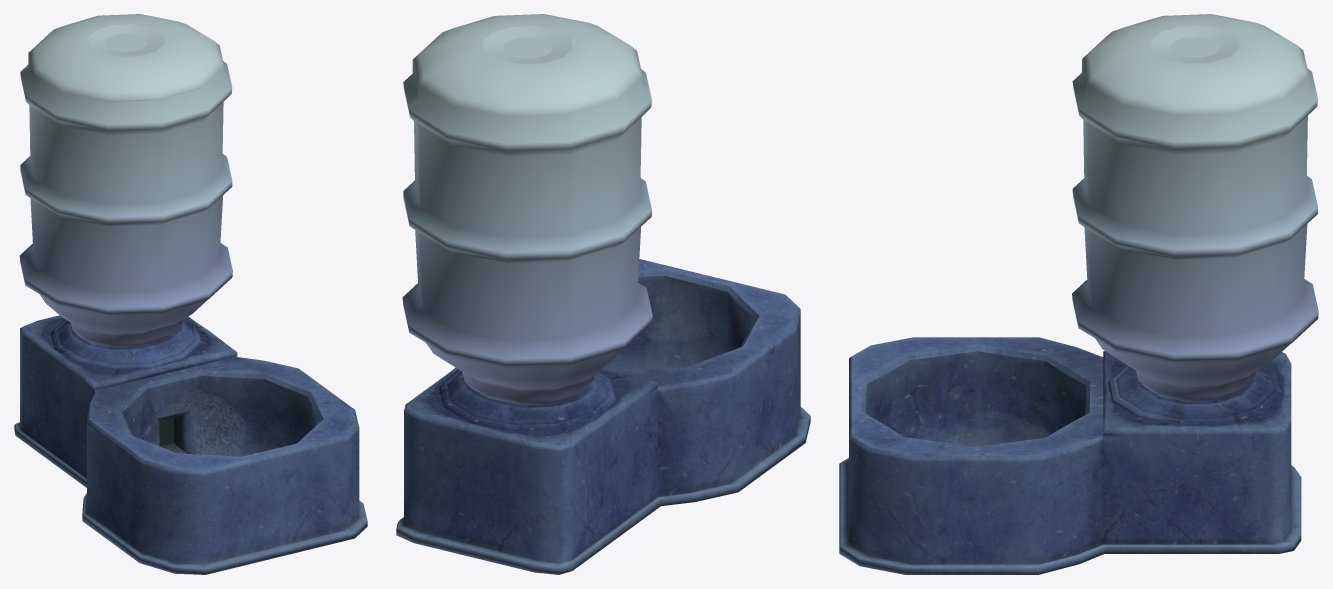
Rendered from waterbowl.obj.
3 renders of one model, left to right at view 1: azimuth 30°, elevation 25°; view 2: azimuth 150°, elevation 25°; view 3: azimuth 270°, elevation 25°, orthographic. The views are drawn at different scales.
Visible parts, largest first — view 1: low; view 2: low; view 3: low.
Boxes of the visible parts, x1=… form: low: x1=14, y1=14, x2=367, y2=574; low: x1=396, y1=14, x2=810, y2=574; low: x1=839, y1=14, x2=1318, y2=574.
Bounding box in the file's own units: 1.18 × 2.03 × 1.89.
1 material, 1 textured.
